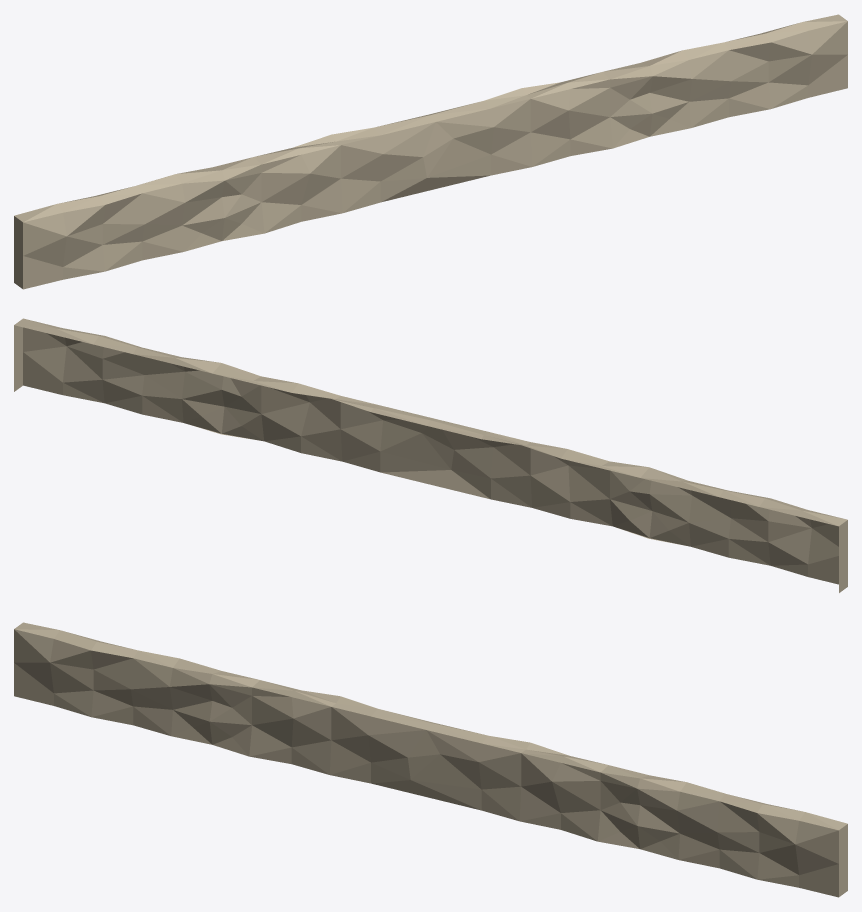
Rendered from Великий Китай Стена ЛВЛ2.FBX.
The picture shows the model from 3 angles, top to bottom: view 1: azimuth 30°, elevation 25°; view 2: azimuth 150°, elevation 25°; view 3: azimuth 330°, elevation 25°; orthographic projection.
Visible parts, largest first — view 1: Box240; view 2: Box240; view 3: Box240.
Boxes of the visible parts, x1=… form: Box240: x1=14, y1=14, x2=847, y2=289; Box240: x1=14, y1=318, x2=847, y2=592; Box240: x1=14, y1=622, x2=847, y2=897.
Size of the model in its own units: 1715 by 142 by 46.91.
